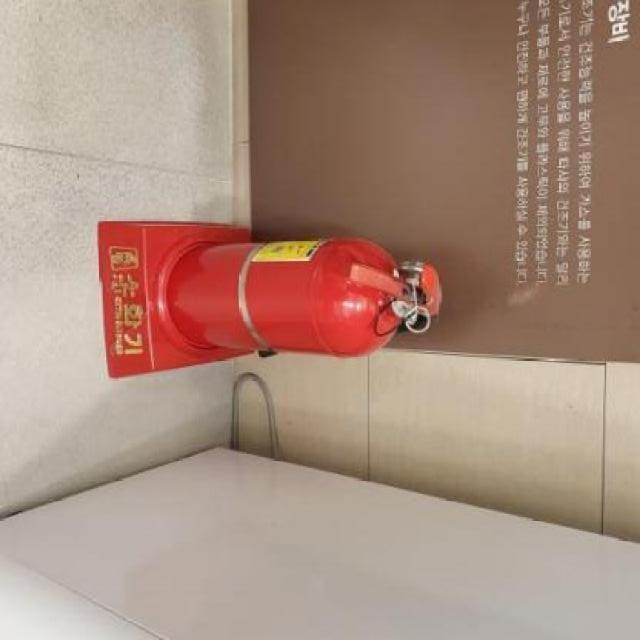fire extinguisher: (167, 237, 442, 358)
